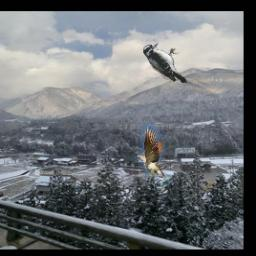Cuckoo: (138, 124, 183, 178)
Woodpecker: (143, 44, 187, 84)
